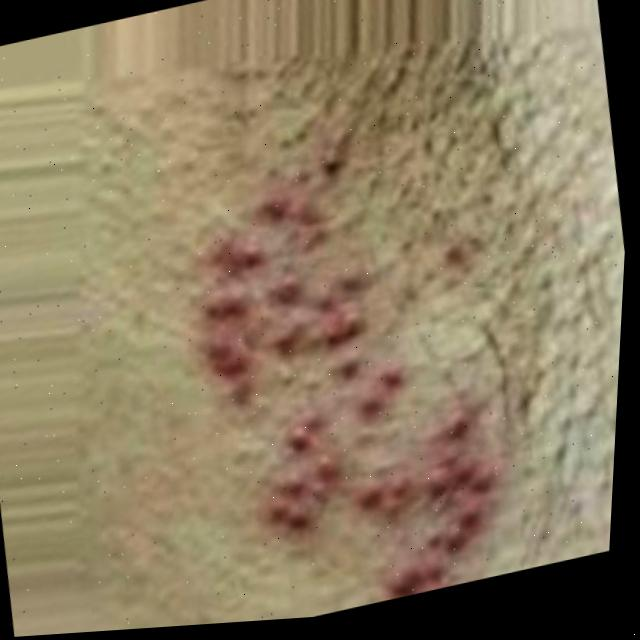Shingles: (166, 147, 529, 627)
